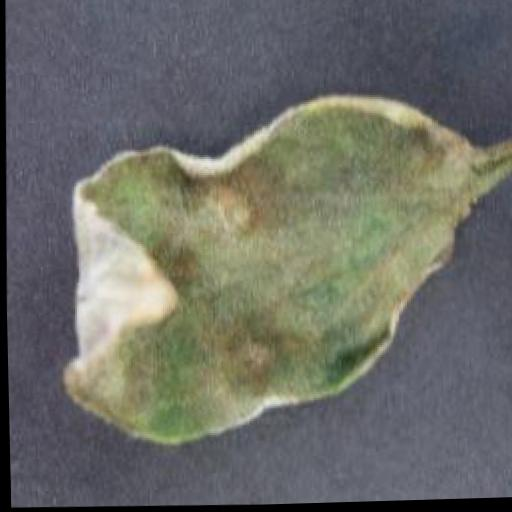Late Blight: (48, 84, 486, 455)
